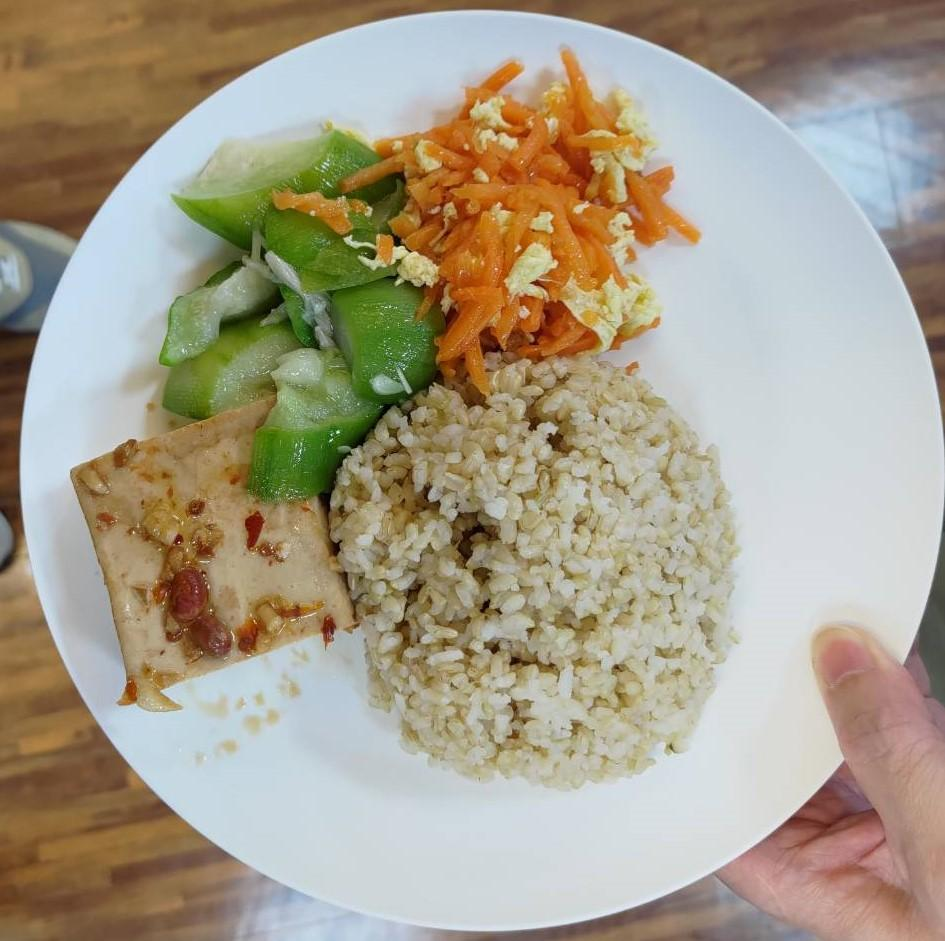big fried chicken leg: (24, 0, 945, 941)
box: (337, 346, 742, 785)
braised fish fillet: (154, 126, 445, 491), (372, 54, 685, 376), (66, 390, 361, 702)
